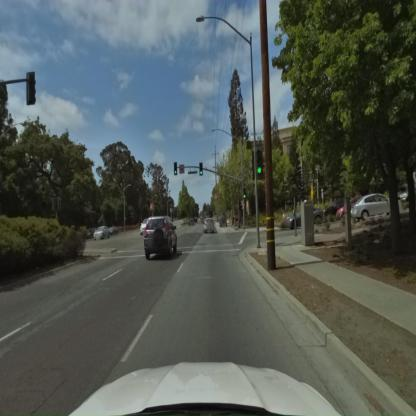car: (142, 216, 178, 260), (280, 195, 323, 230), (352, 193, 390, 220), (203, 218, 217, 234), (94, 228, 111, 241)
